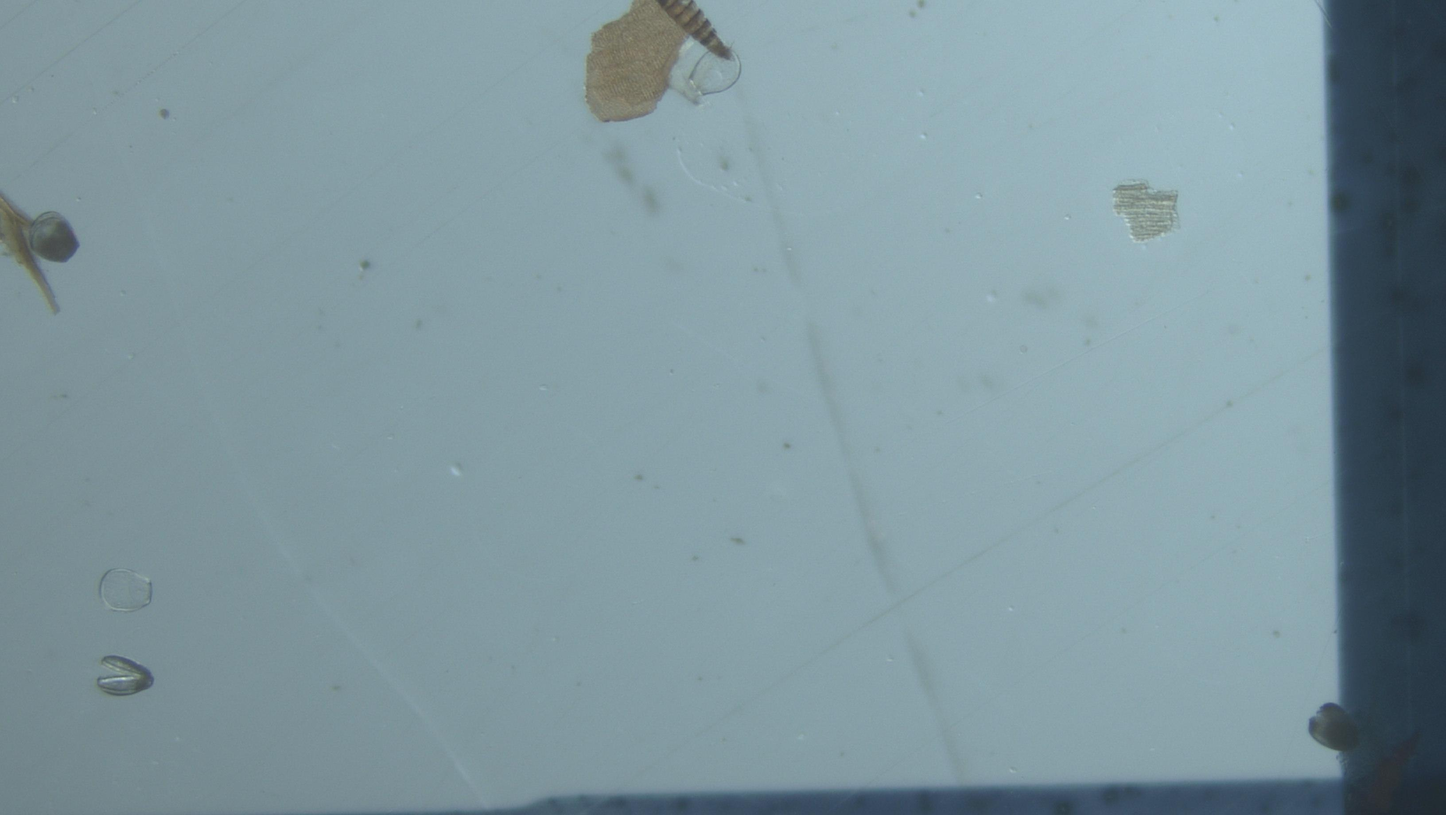dead: (670, 45, 741, 104), (99, 569, 152, 612)
live: (26, 212, 79, 263), (1308, 703, 1360, 753)
